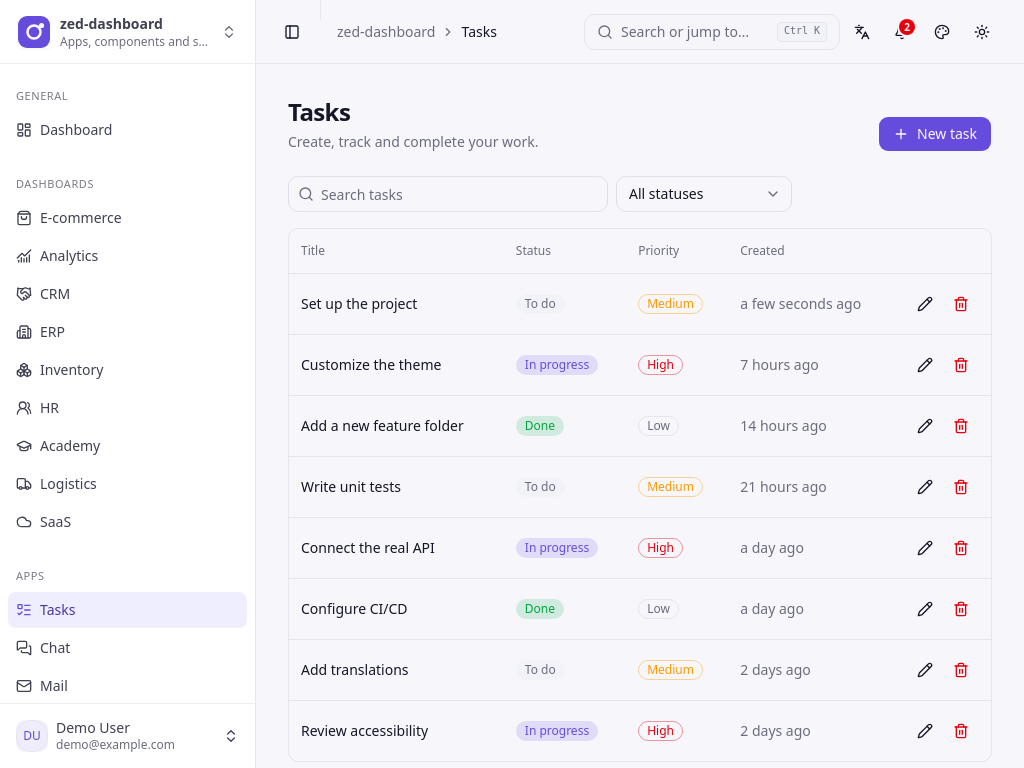
Test: Tasks feature › creates a task
Expected: the link "Set up the project" is shown, [301,294,417,312]
Click the button "New task". click: point(935, 134)
box: [878,116,992,152]
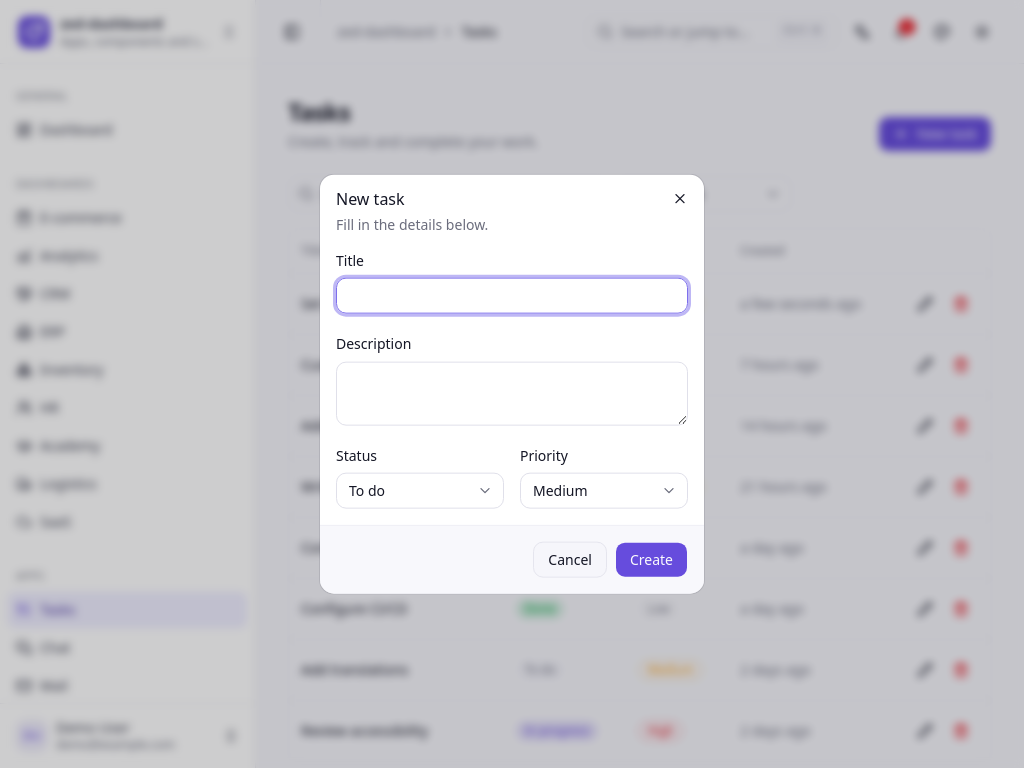
Type "Ship the starter" into the field labelled "Title". click: point(512, 296)
box: [336,278,688,314]
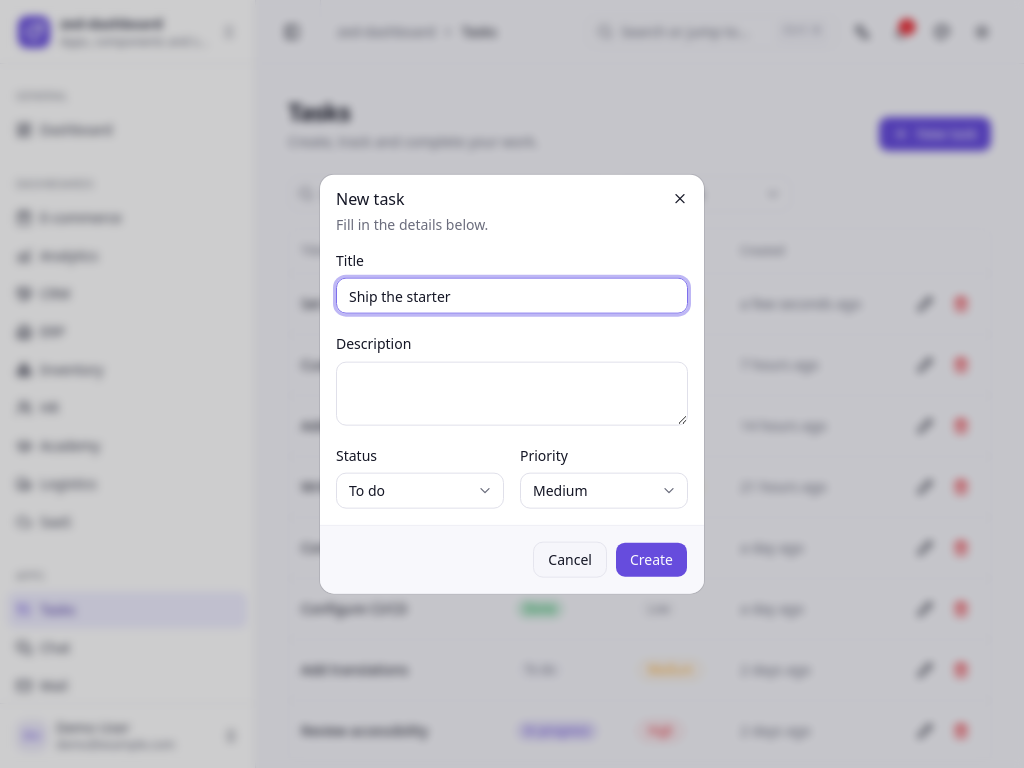
Click the button "Create". click: point(651, 559)
box: [615,541,688,577]
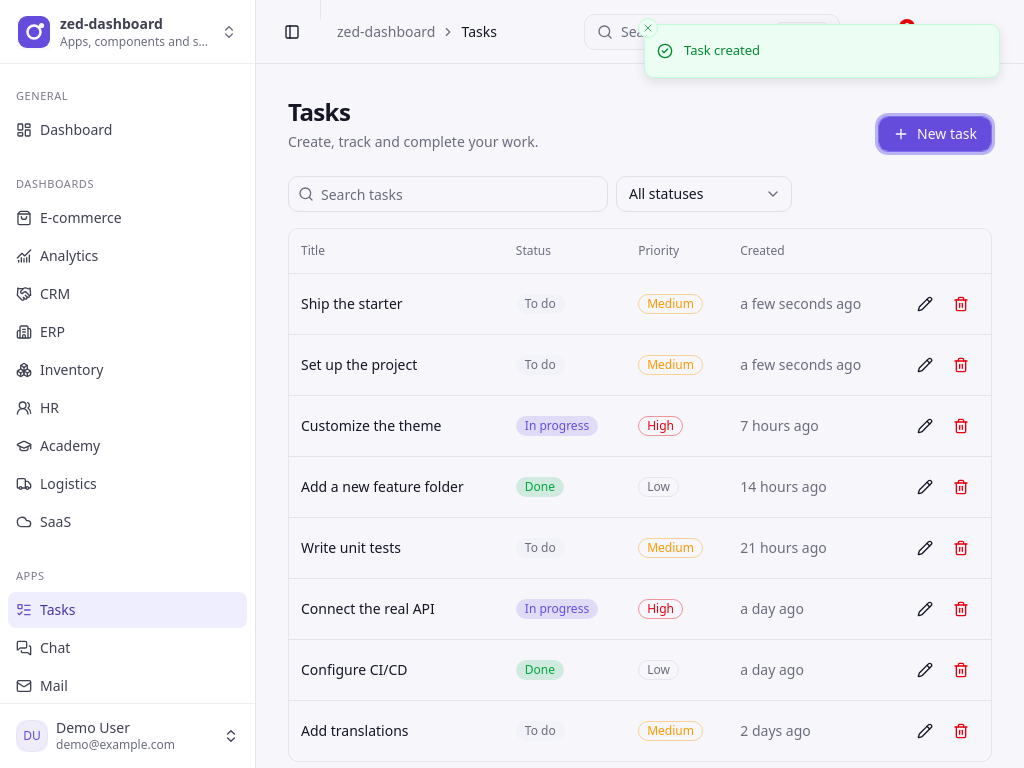
Expected: the link "Ship the starter" is shown, [301,294,403,312]
Expected: the dialog is gone
